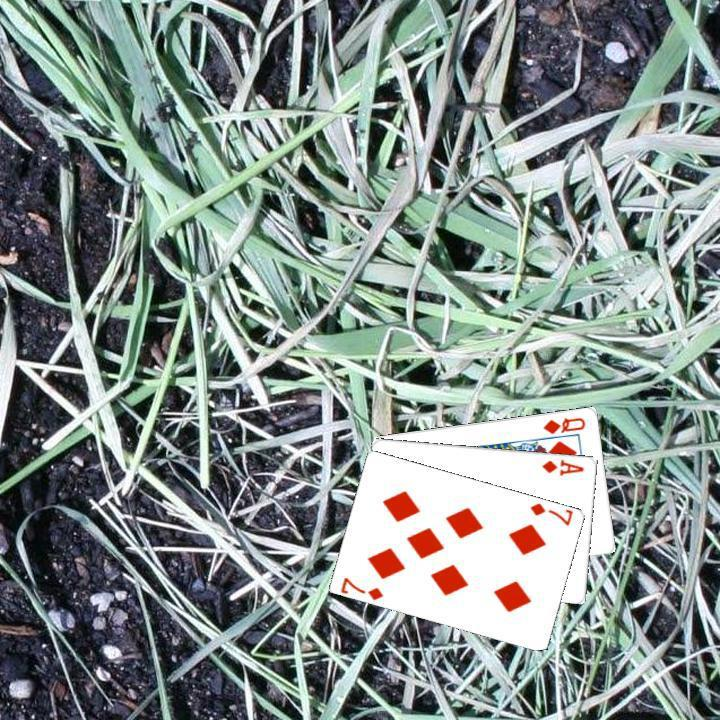7: (526, 498, 574, 528), (337, 572, 386, 601)
A: (538, 455, 586, 477)
Q: (539, 412, 587, 436)
